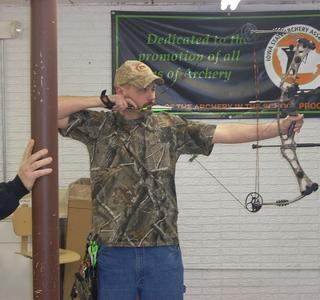person: (58, 58, 307, 298)
